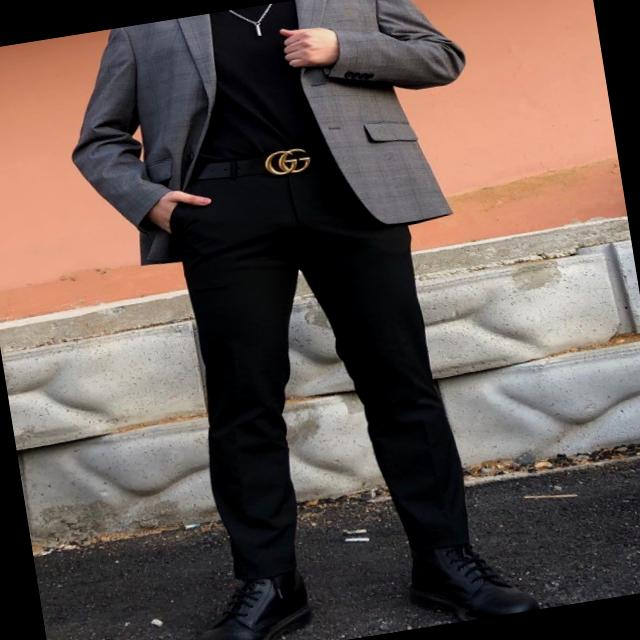blazer: (51, 0, 493, 275)
slacks: (158, 127, 477, 596)
